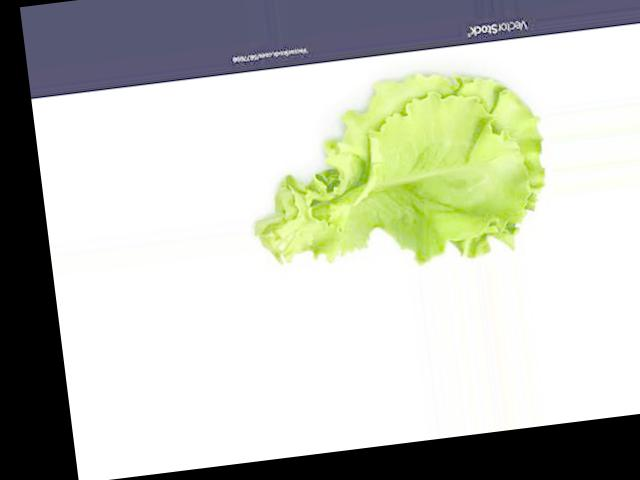lettuce: (244, 19, 372, 269)
